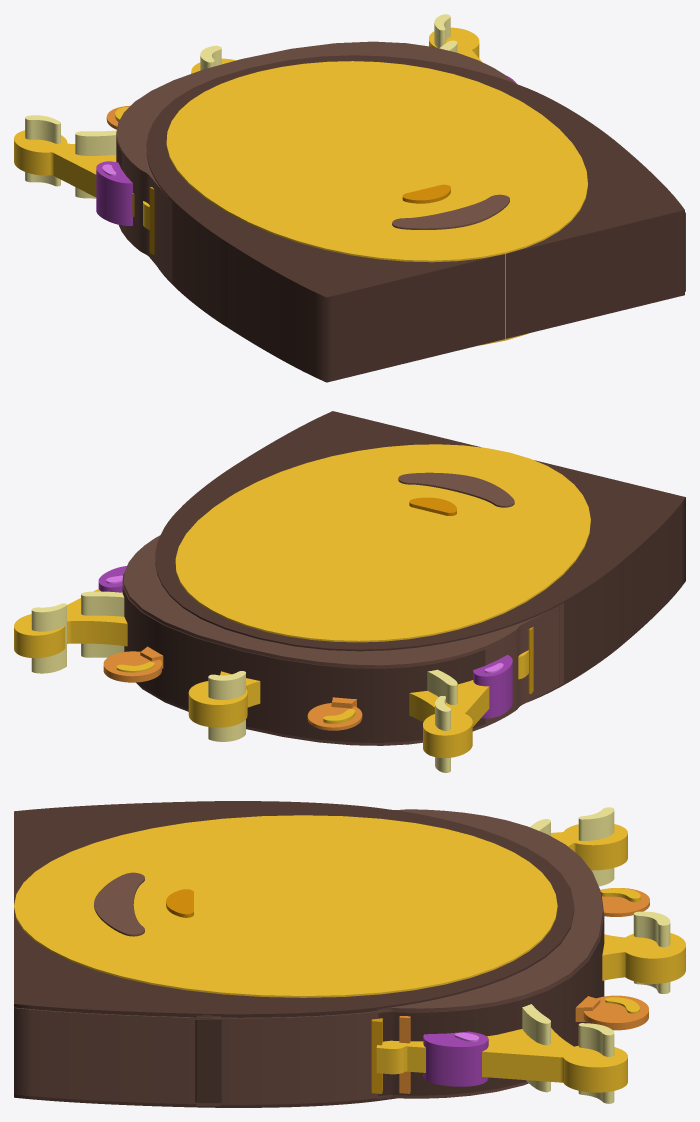
Rendered from emoji_u1f478.glb.
The picture shows the model from 3 angles, top to bottom: view 1: azimuth 30°, elevation 25°; view 2: azimuth 150°, elevation 25°; view 3: azimuth 270°, elevation 25°; orthographic projection. The views are drawn at different scales.
Visible parts, largest first — view 1: emoji_u1f478; view 2: emoji_u1f478; view 3: emoji_u1f478.
Part boxes in pixels (x1,y1,x2,y2): emoji_u1f478: (14, 14, 685, 382); emoji_u1f478: (14, 411, 685, 772); emoji_u1f478: (14, 801, 685, 1107).
Bounding box in the file's own units: 0.0292 × 0.0058 × 0.0338.
